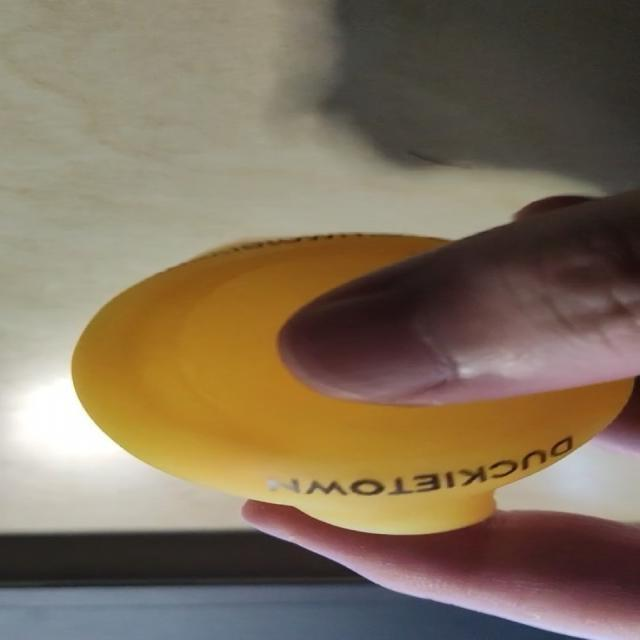rubber-duck: (71, 233, 630, 532)
